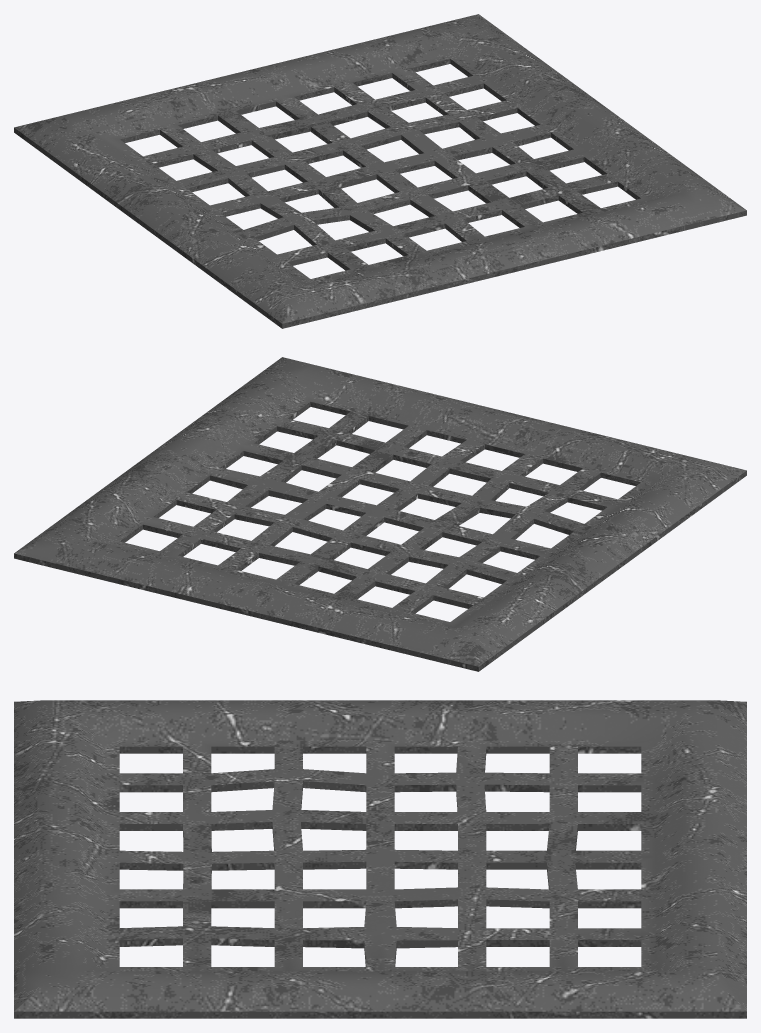
Rendered from sqare_sewercover_2.glb.
3 renders of one model, top to bottom at view 1: azimuth 30°, elevation 25°; view 2: azimuth 150°, elevation 25°; view 3: azimuth 270°, elevation 25°, orthographic. The views are drawn at different scales.
Parts seen in each view (by area): view 1: Grille; view 2: Grille; view 3: Grille.
Boxes of the visible parts, left/top/right/bottom form: Grille: left=14, top=14, right=746, bottom=328; Grille: left=14, top=357, right=746, bottom=671; Grille: left=14, top=700, right=746, bottom=1018.
Bounding box in the file's own units: 4 × 0.1232 × 4.
Materials: 1 (1 with a texture image).
